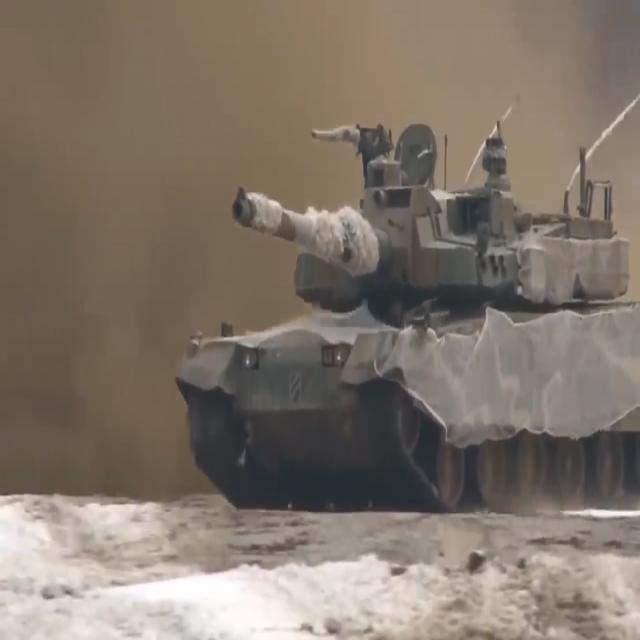korea tank: (172, 114, 640, 516)
